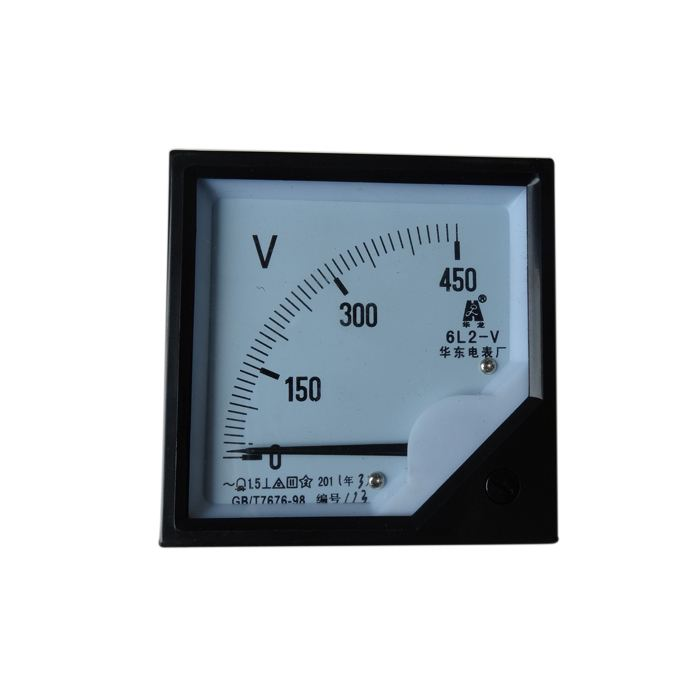pointer: (195, 176, 529, 519)
